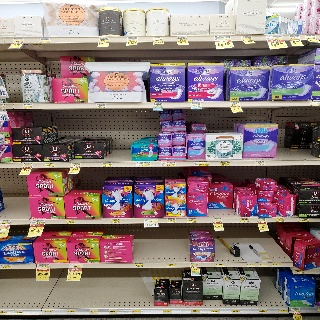All PRICE TAGS: (266, 35, 282, 40), (194, 161, 209, 166), (145, 218, 158, 223), (214, 36, 230, 40), (161, 162, 176, 166), (136, 162, 151, 166), (305, 34, 317, 39), (69, 264, 83, 268), (36, 264, 50, 268), (31, 220, 45, 224), (209, 309, 220, 314), (102, 162, 113, 167), (0, 220, 11, 225), (39, 37, 50, 42), (187, 218, 197, 223), (191, 102, 201, 107), (153, 103, 163, 108), (96, 103, 106, 108), (23, 104, 33, 109), (294, 269, 304, 274), (300, 218, 310, 223), (99, 37, 109, 42), (241, 36, 253, 40), (12, 38, 24, 42), (259, 308, 268, 313), (231, 309, 240, 314), (191, 309, 200, 314), (132, 309, 141, 314), (109, 309, 118, 314), (89, 309, 98, 314), (42, 309, 51, 314), (134, 262, 143, 267), (167, 218, 176, 223), (291, 308, 300, 313), (219, 161, 230, 165), (289, 35, 300, 39), (0, 265, 11, 269), (164, 309, 172, 314), (67, 309, 75, 314), (167, 262, 175, 267), (110, 219, 120, 223), (65, 220, 75, 224), (255, 161, 265, 165), (71, 163, 81, 167), (45, 163, 55, 167), (23, 163, 33, 167), (230, 102, 240, 106), (128, 37, 138, 41), (153, 37, 163, 41), (216, 263, 225, 267), (275, 218, 284, 222), (257, 218, 266, 222), (240, 218, 249, 222), (213, 218, 222, 222), (177, 37, 188, 40), (246, 263, 254, 267), (191, 263, 199, 267), (279, 309, 285, 313)
